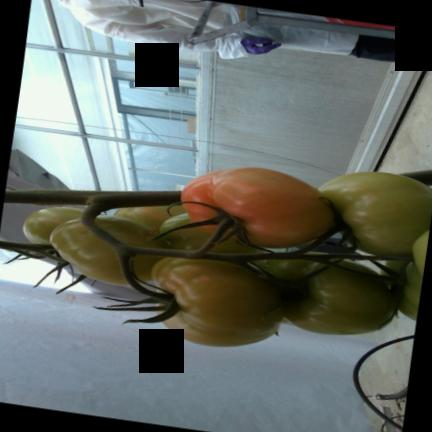6kp_peduncle: (49, 188, 151, 251)
MainStem: (2, 188, 181, 207)
tomato: (180, 166, 333, 247), (151, 256, 281, 346), (318, 171, 432, 254), (283, 259, 396, 334), (49, 214, 169, 284), (158, 213, 254, 252), (370, 259, 421, 319), (23, 206, 82, 243), (113, 204, 185, 229), (254, 258, 312, 280), (412, 230, 429, 276)
